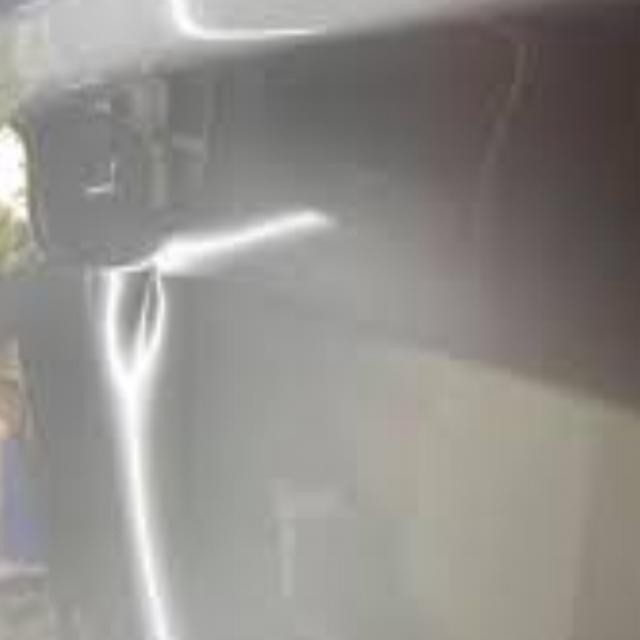dents: (103, 267, 181, 405)
